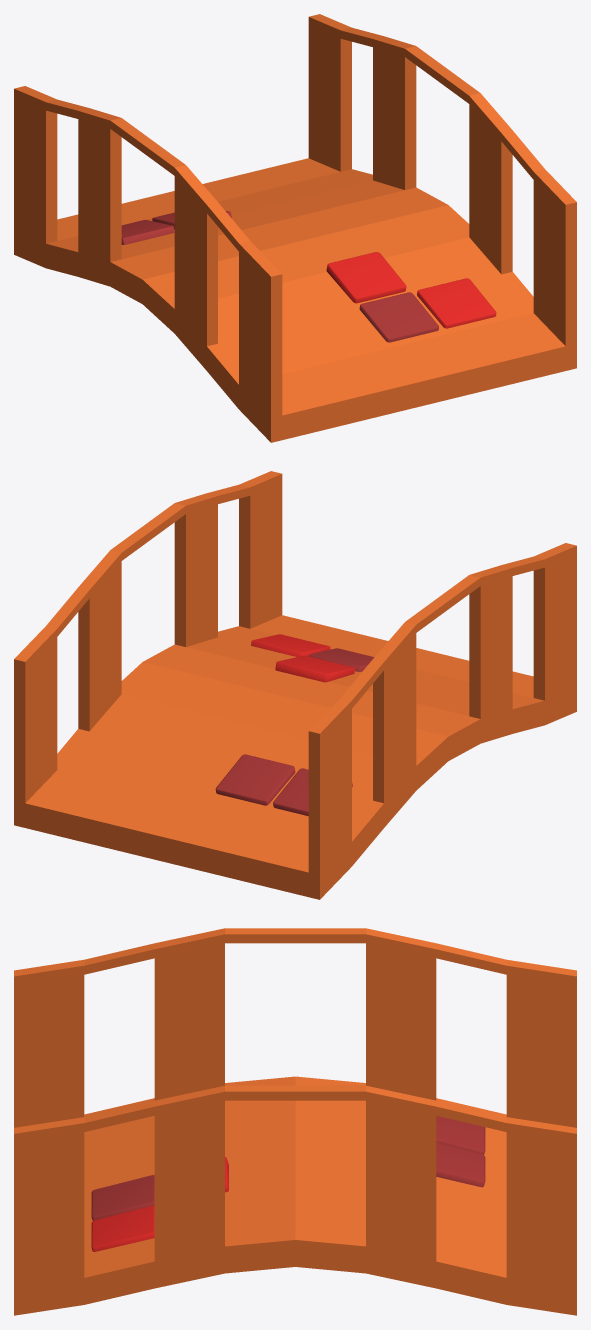
3 views of the same model, one above another, from view 1: azimuth 30°, elevation 25°; view 2: azimuth 150°, elevation 25°; view 3: azimuth 270°, elevation 25° (orthographic). The views are drawn at different scales.
Parts seen in each view (by area): view 1: Bridge, Cube.008, Cube.009, Cube.010, Cube.007; view 2: Bridge, Cube.006, Cube.008, Cube.007, Cube.010, Cube.009; view 3: Bridge, Cube.010, Cube.009, Cube.006, Cube.007.
Part boxes in pixels (x1,y1,x2,y2): Bridge: [14, 14, 576, 442]; Cube.008: [326, 252, 406, 303]; Cube.009: [359, 292, 438, 342]; Cube.010: [417, 278, 496, 328]; Cube.007: [121, 220, 174, 244]; Bridge: [14, 471, 576, 899]; Cube.006: [215, 754, 295, 805]; Cube.008: [275, 655, 355, 682]; Cube.007: [273, 768, 352, 816]; Cube.010: [251, 634, 330, 656]; Cube.009: [309, 648, 374, 671]; Bridge: [14, 928, 576, 1315]; Cube.010: [91, 1205, 154, 1251]; Cube.009: [91, 1175, 154, 1220]; Cube.006: [436, 1143, 485, 1187]; Cube.007: [436, 1116, 485, 1154].
Size of the model in its own units: 1374 by 878 by 2000.
